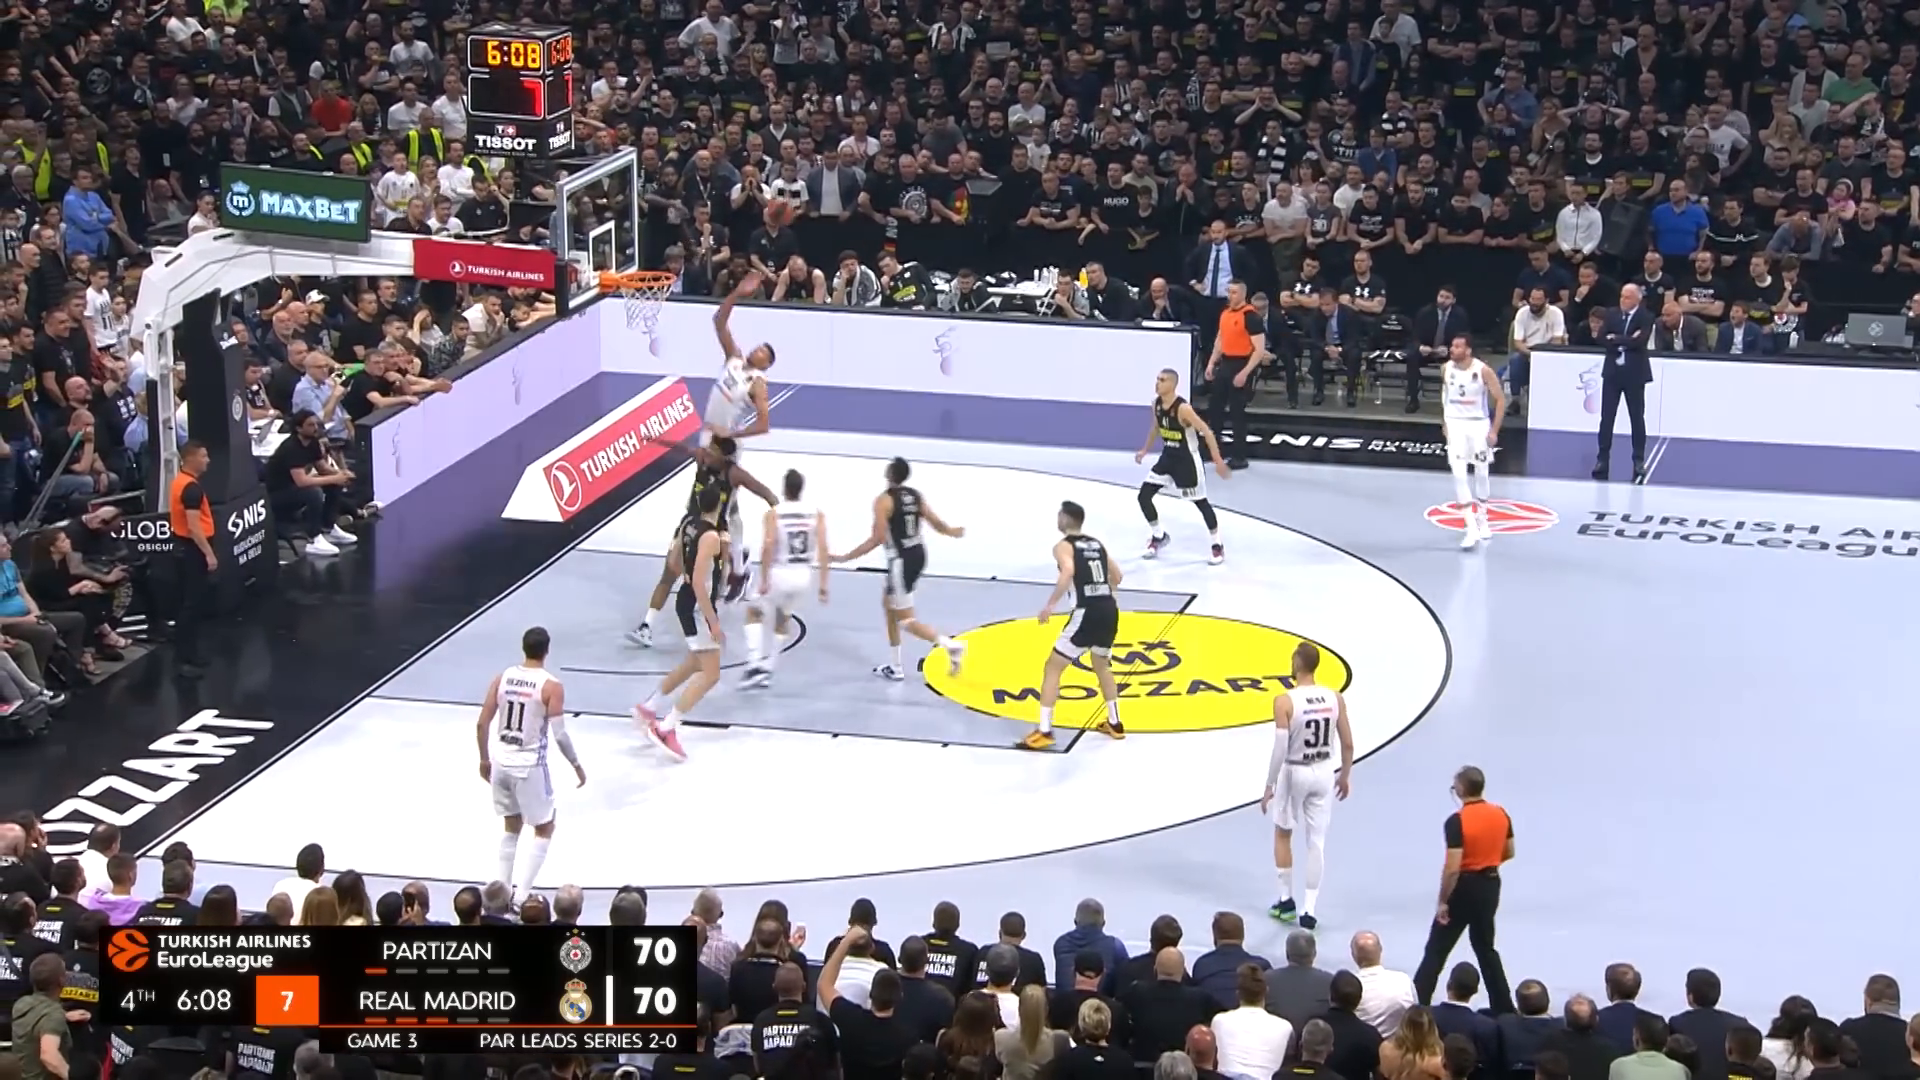ball: (765, 196, 796, 227)
net: (618, 272, 680, 327)
